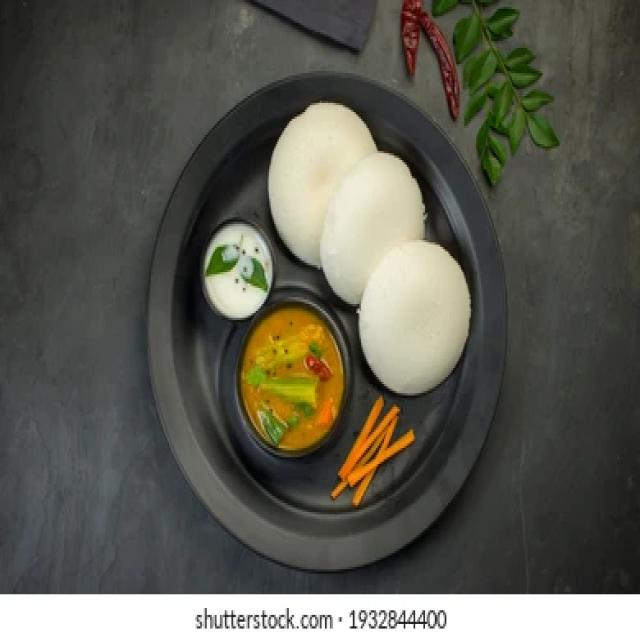IDLI: (267, 103, 376, 267), (359, 240, 469, 393), (320, 151, 425, 304)
